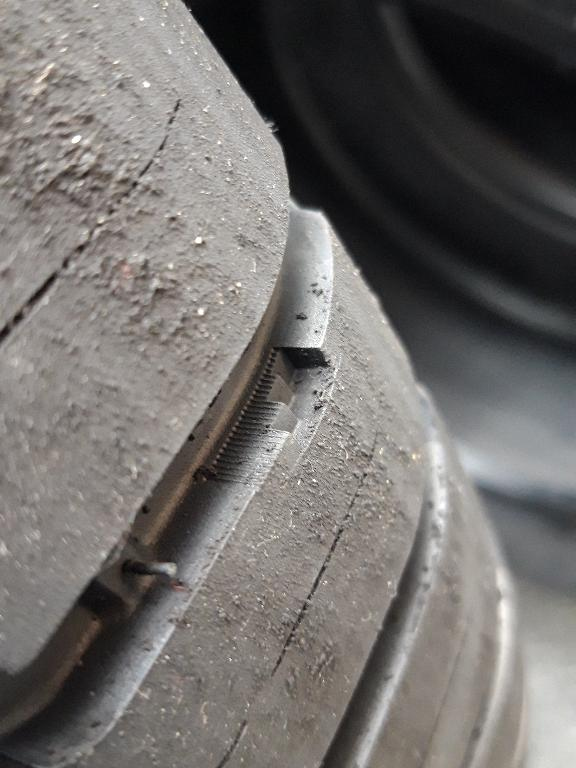temoin:75: (215, 338, 351, 480)
